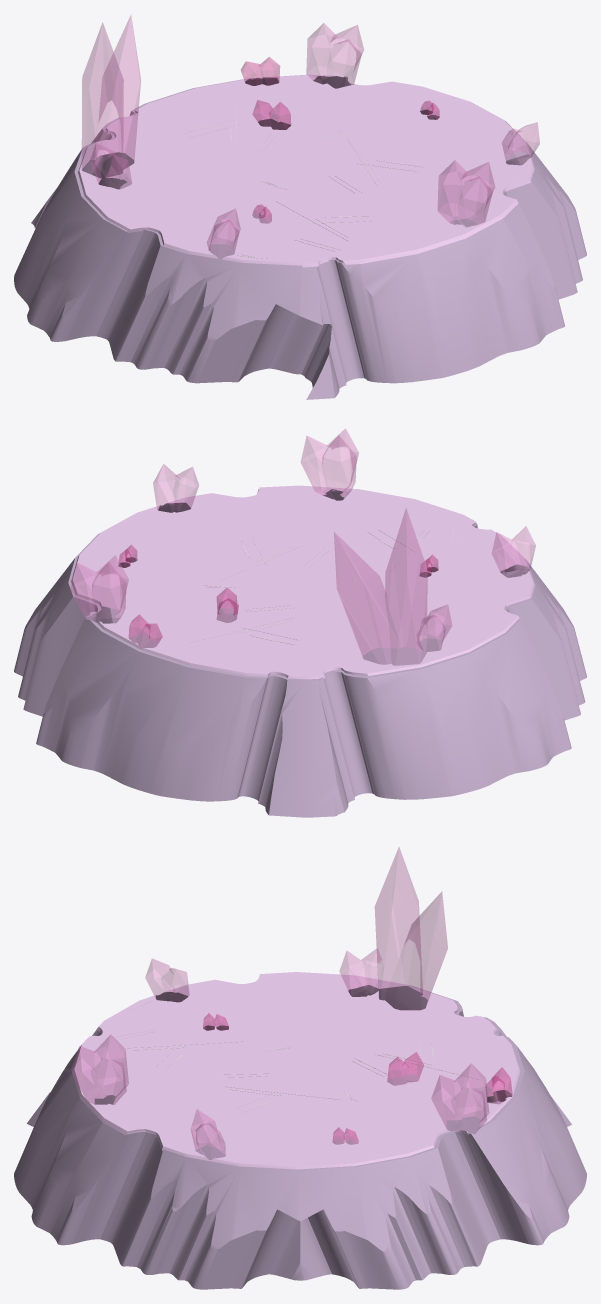
File: CrystalDungeon.fbx
3 views of the same model, one above another, from view 1: azimuth 30°, elevation 25°; view 2: azimuth 150°, elevation 25°; view 3: azimuth 270°, elevation 25° (orthographic).
Visible parts, largest first — view 1: obj_0; view 2: obj_0; view 3: obj_0.
Part boxes in pixels (x1,y1,x2,y2): obj_0: (14, 15, 586, 399); obj_0: (14, 428, 586, 817); obj_0: (14, 847, 586, 1289).
Size of the model in its own units: 26930 by 13200 by 26960.
